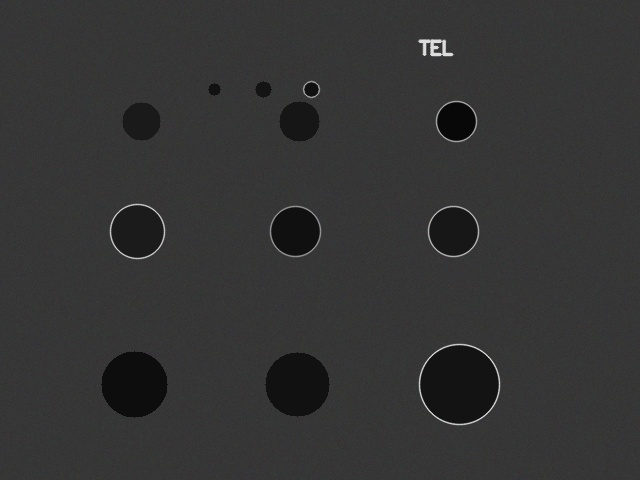hole: (419, 344, 499, 424), (101, 351, 167, 417), (265, 352, 329, 416), (110, 204, 164, 258), (270, 206, 320, 256), (428, 206, 478, 256), (279, 101, 319, 141), (436, 101, 476, 141), (122, 102, 160, 140), (255, 81, 271, 97), (303, 81, 319, 97), (208, 83, 220, 95)
